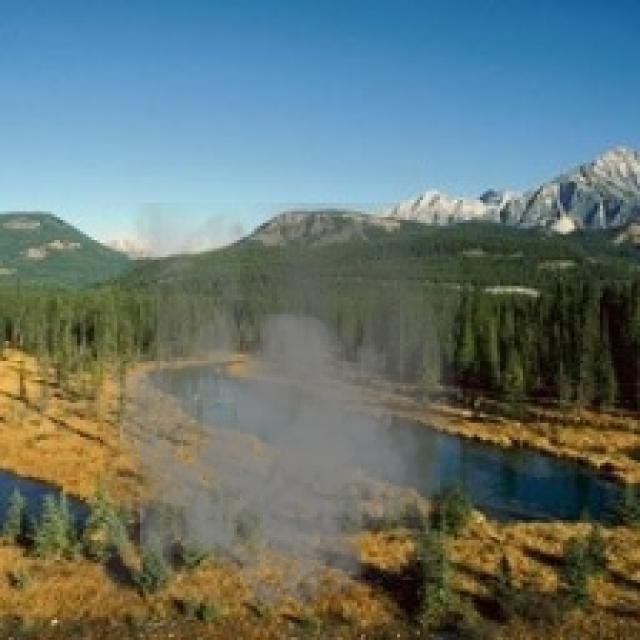Smoke: (100, 203, 466, 620)
